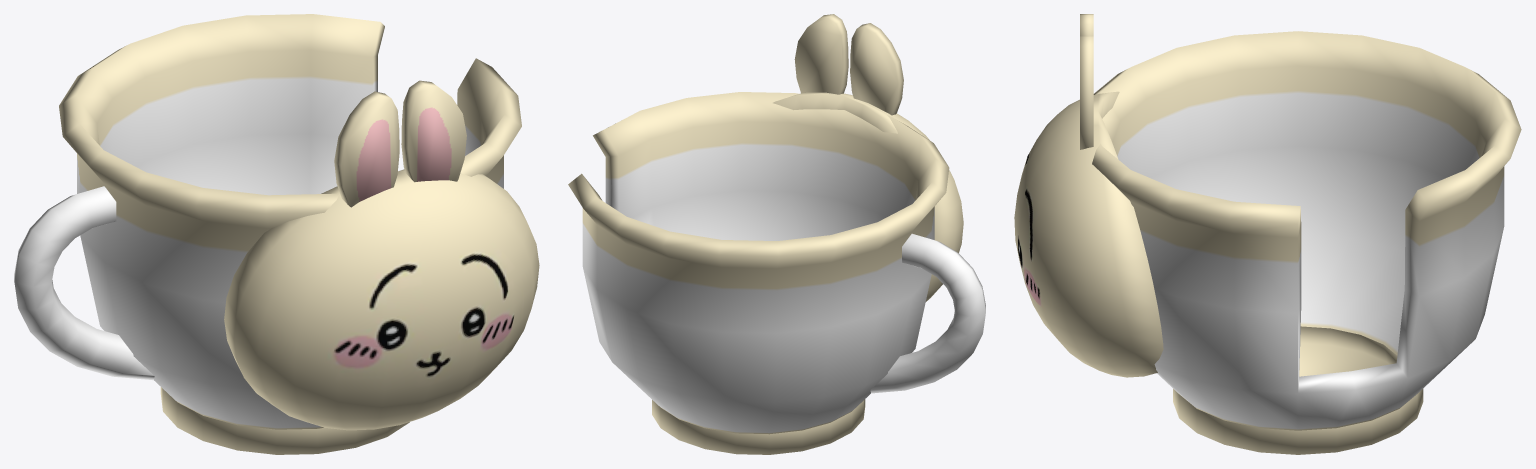
The model's file is cup2-1.glb.
The picture shows the model from 3 angles, left to right: view 1: azimuth 30°, elevation 25°; view 2: azimuth 150°, elevation 25°; view 3: azimuth 270°, elevation 25°; orthographic projection. The views are drawn at different scales.
Parts seen in each view (by area): view 1: chipcup.001; view 2: chipcup.001; view 3: chipcup.001.
Boxes of the visible parts, left/top/right/bottom form: chipcup.001: left=14, top=14, right=539, bottom=454; chipcup.001: left=568, top=14, right=985, bottom=454; chipcup.001: left=1014, top=14, right=1521, bottom=454.
Size of the model in its own units: 2.57 by 2.01 by 2.46.
Materials: 1 (1 with a texture image).
